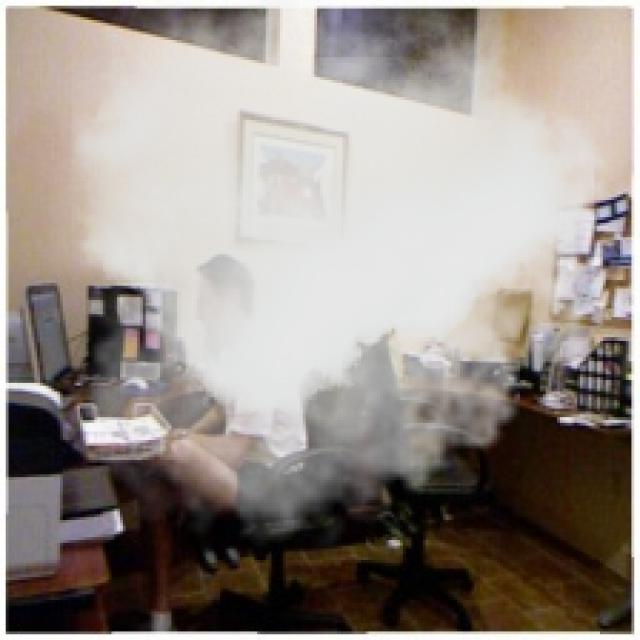smoke: (71, 0, 628, 560)
